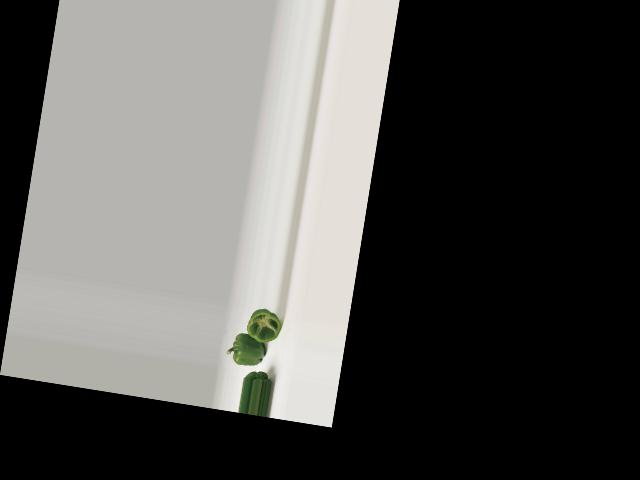bell_pepper: (241, 304, 285, 347)
